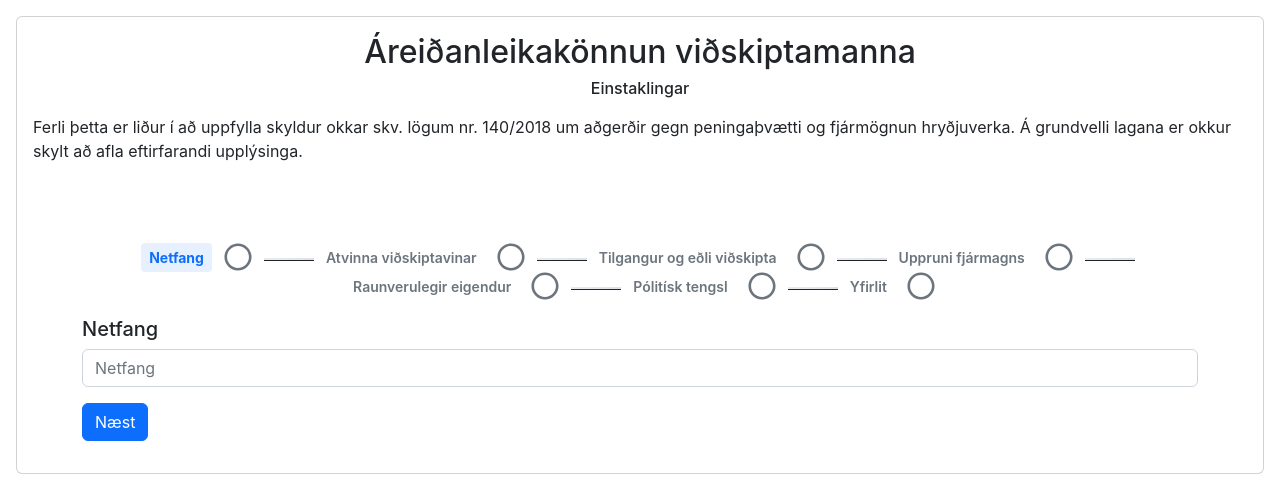
it: Click on steps and check the form › should produce the correct form when step six is clicked
This screenshot has width=1280, height=491.
Click the element with id "step-5" at (762, 286), box [748, 272, 776, 300]
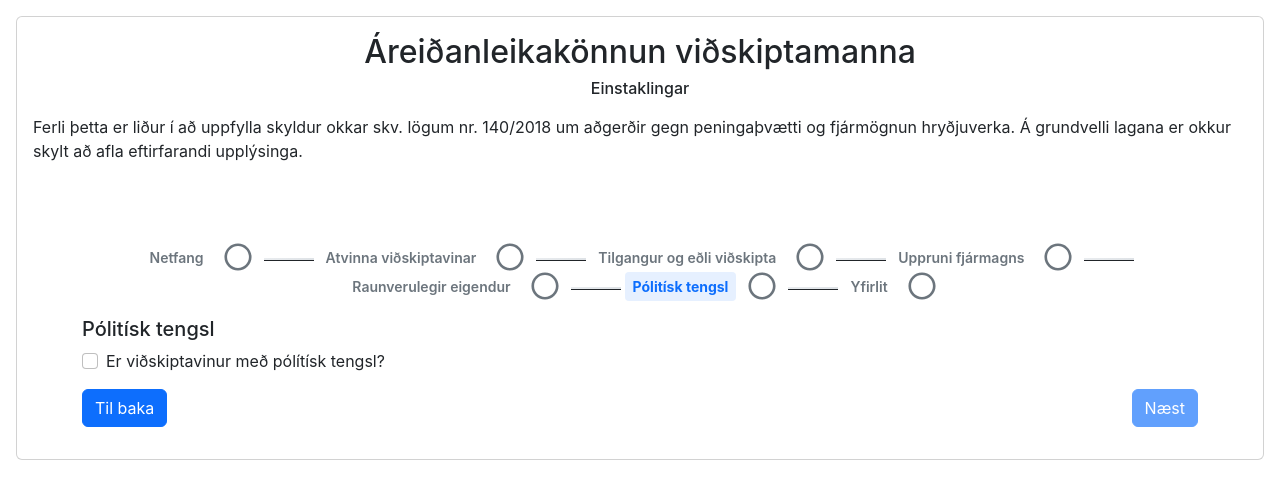
Check: the text "Er viðskiptavinur með pólítísk tengsl?" is shown, box [106, 349, 385, 373]
